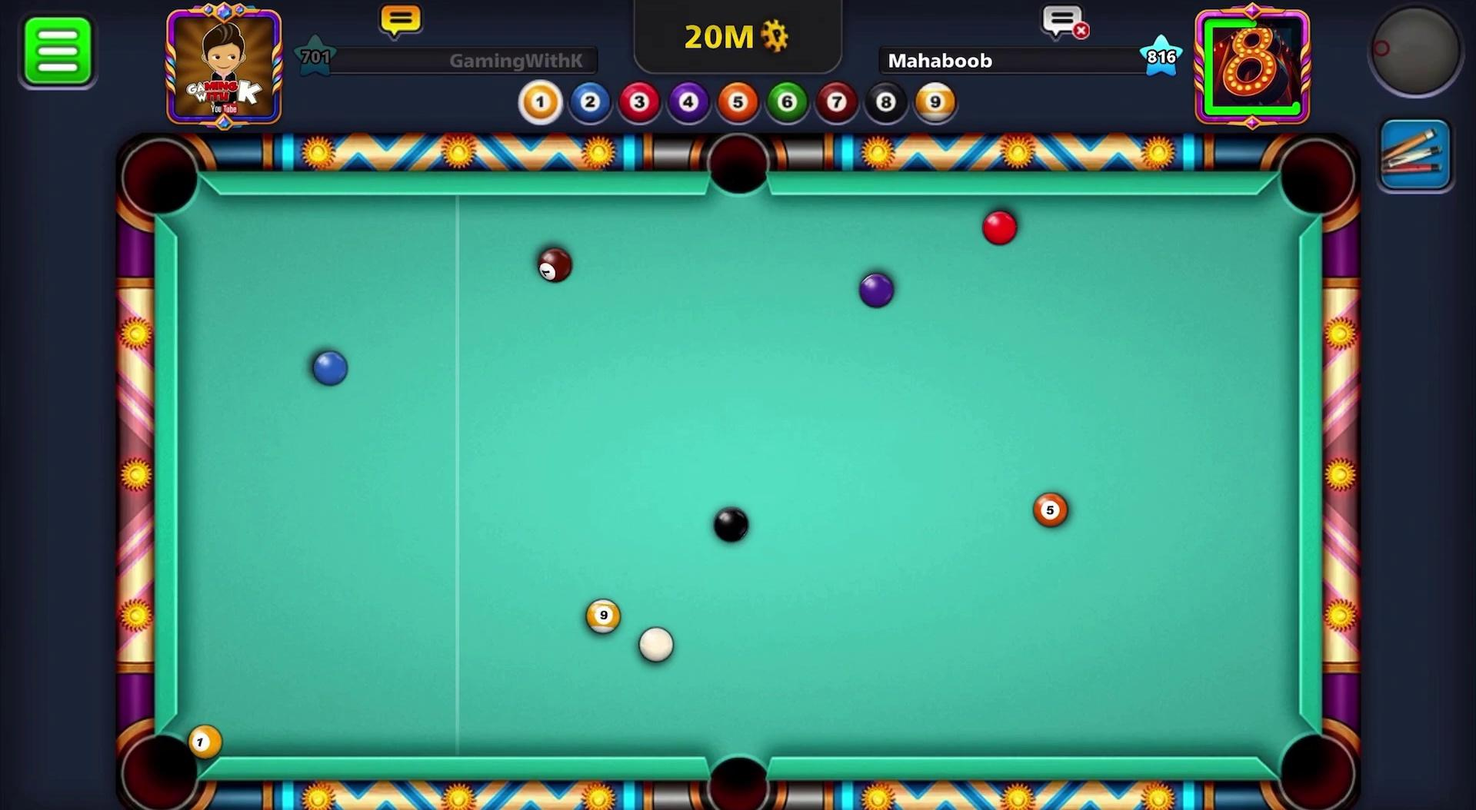Ball: (703, 502, 758, 548), (305, 344, 353, 390), (855, 267, 898, 313), (1030, 485, 1071, 531), (978, 207, 1022, 248), (529, 245, 575, 284), (584, 597, 621, 636)
Hole: (108, 717, 212, 809), (1268, 134, 1364, 232), (1266, 719, 1364, 809), (113, 131, 205, 226), (698, 123, 784, 204), (687, 742, 785, 809)
Play_Area: (179, 194, 1298, 759)
Spin: (1349, 0, 1475, 115)
White: (633, 625, 678, 665)
